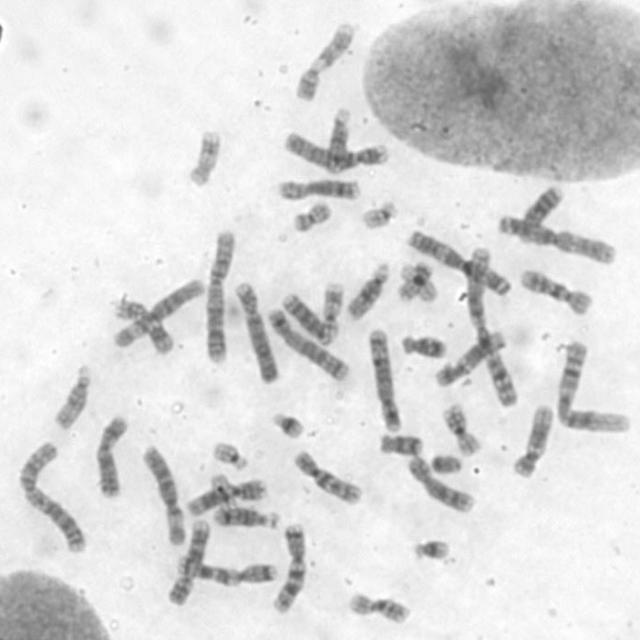A1: (463, 243, 521, 408), (554, 339, 632, 433)
A2: (17, 439, 93, 557), (204, 228, 237, 363)
A3: (405, 228, 515, 298), (497, 213, 619, 267)
B4: (234, 280, 281, 385), (284, 131, 389, 173)
B5: (266, 306, 352, 384), (365, 327, 404, 435)
C10: (290, 447, 364, 507), (517, 266, 597, 318)
C11: (111, 295, 175, 359), (185, 475, 268, 518)
C12: (432, 330, 507, 389), (511, 403, 555, 480)
C6: (109, 277, 206, 350), (138, 443, 187, 547)
C7: (269, 523, 309, 616), (175, 554, 280, 589)
C8: (406, 453, 476, 514), (277, 176, 362, 203)
C9: (293, 20, 359, 103), (166, 517, 211, 607)
D13: (516, 185, 564, 246), (278, 291, 332, 345)
D14: (324, 106, 351, 174), (212, 505, 281, 531)
D15: (345, 258, 394, 324), (51, 360, 93, 433)
E16: (347, 591, 412, 627), (441, 404, 483, 456)
E17: (187, 128, 221, 190), (318, 280, 347, 347)
E18: (399, 332, 448, 361), (377, 435, 425, 458)
F19: (398, 260, 440, 305), (208, 470, 236, 514)
F20: (397, 256, 435, 306), (290, 199, 334, 236)
G21: (270, 411, 307, 442), (413, 537, 450, 563)
G22: (210, 439, 250, 473), (361, 199, 398, 233)
X: (93, 412, 130, 499)
Y: (431, 454, 463, 474)
